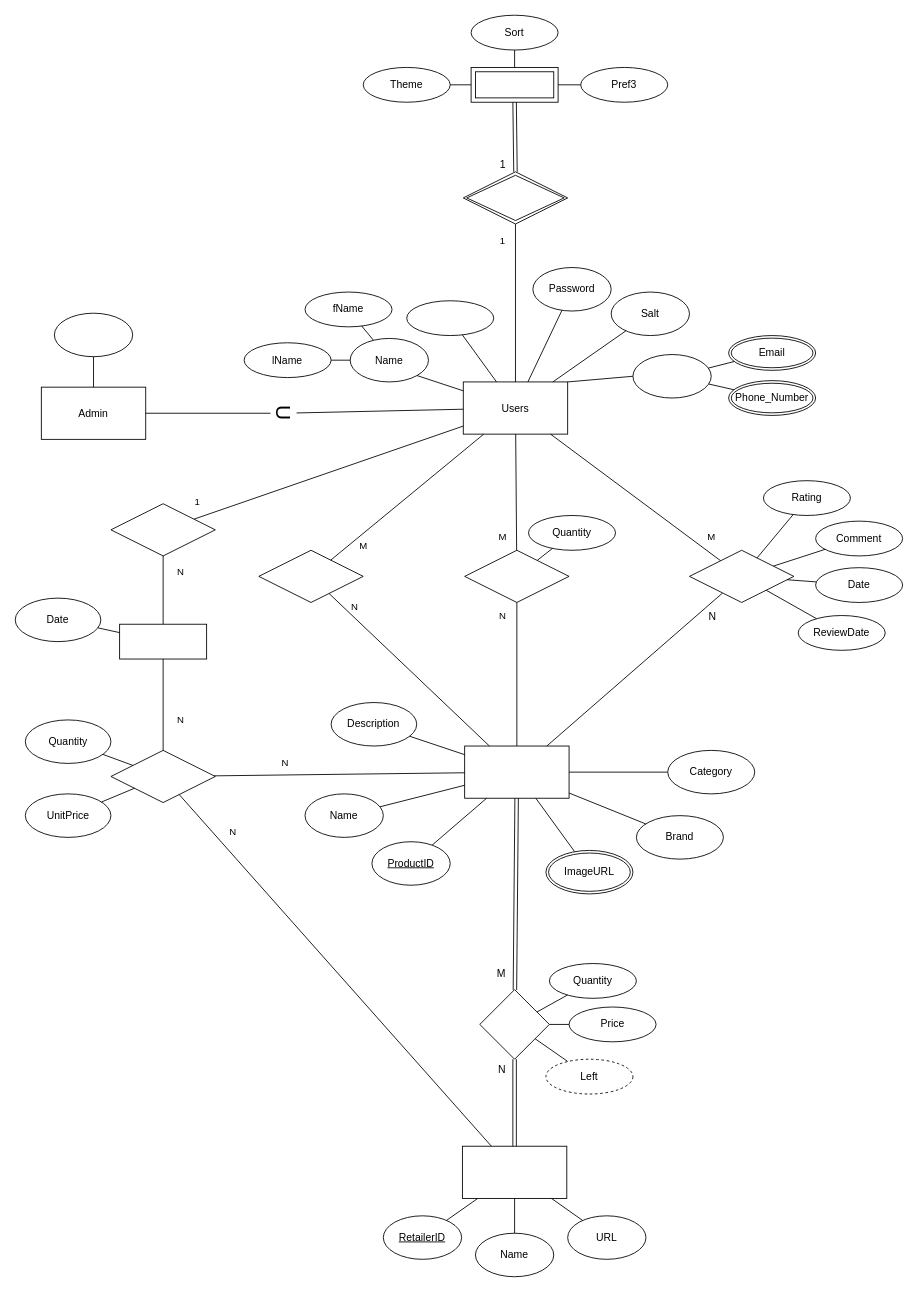
Some shapes in this 918 by 1292 pixel diagram are drawn without their labels. Each missing label, with the box of its shape:
API_Key: (406, 300, 494, 336)
Cart: (464, 549, 569, 602)
Contact_Details: (632, 354, 711, 398)
Listings: (479, 989, 549, 1059)
OrderItems: (110, 750, 215, 803)
Orders: (119, 623, 207, 659)
Places: (110, 503, 215, 556)
Preferences: (470, 67, 558, 102)
Privilege: (54, 312, 133, 357)
ProductRating: (689, 549, 794, 602)
Products: (464, 745, 569, 798)
Retailers: (462, 1145, 567, 1198)
setPref: (462, 171, 568, 224)
Wishlist: (258, 549, 363, 602)
